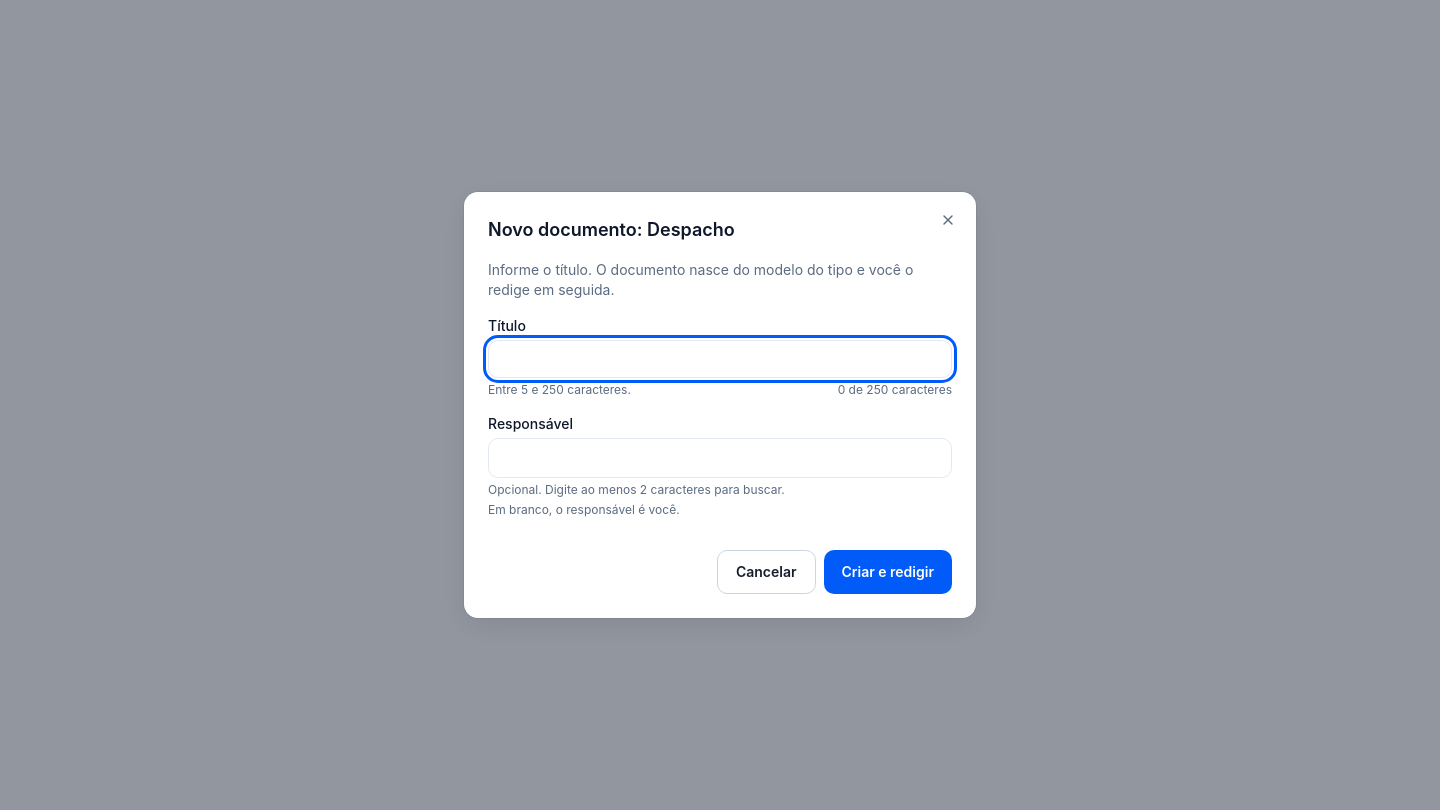
Test: US-063 — CreateDocumentDialog do livre › V-03: tipo sem modelo publicado → a mensagem da API no campo, sem navegar
Type "Encaminhamento à Secretaria de Obras" into the field labelled "Título" at (720, 359), box [488,340,952,378]
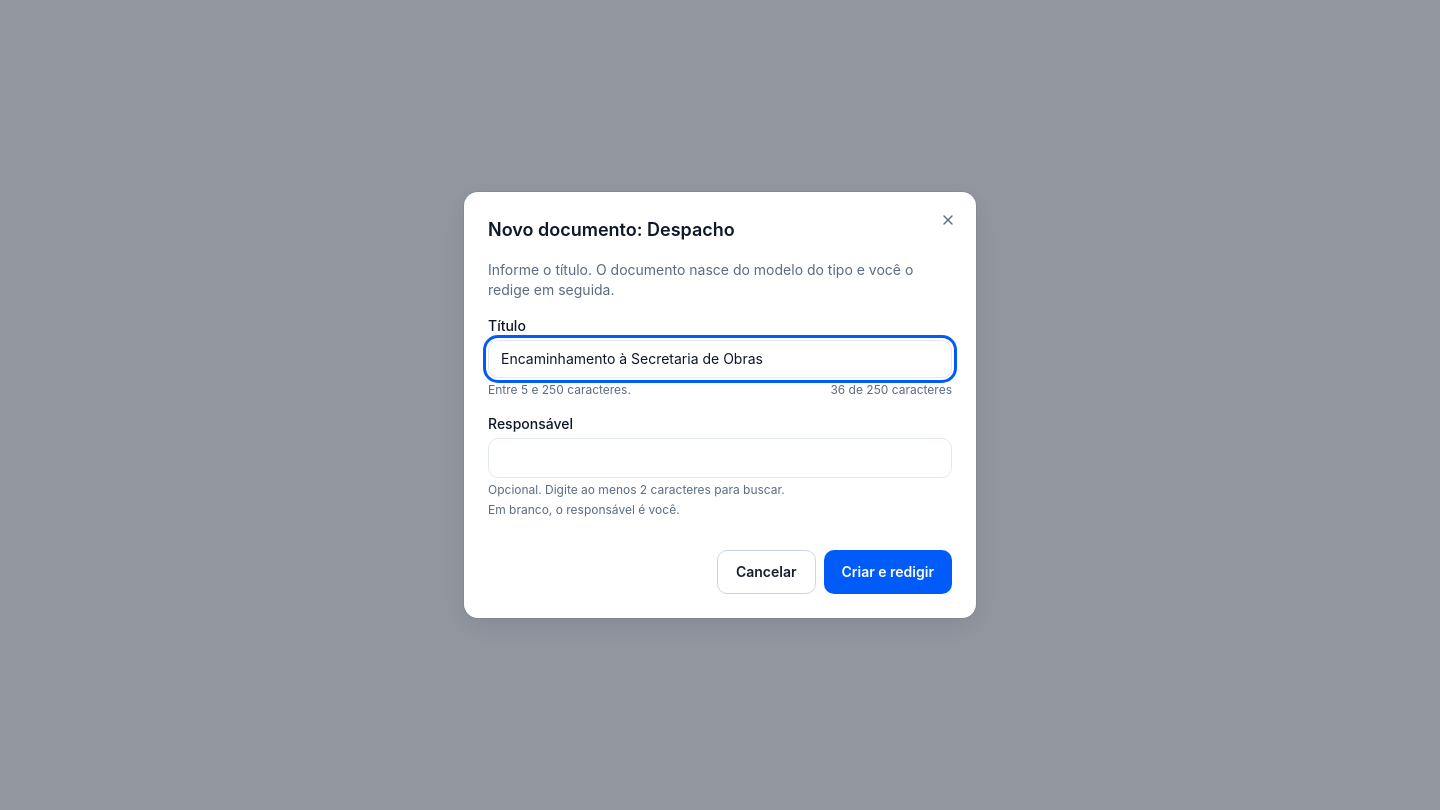
Click the button "Criar e redigir" at (888, 572), box [824,550,952,594]
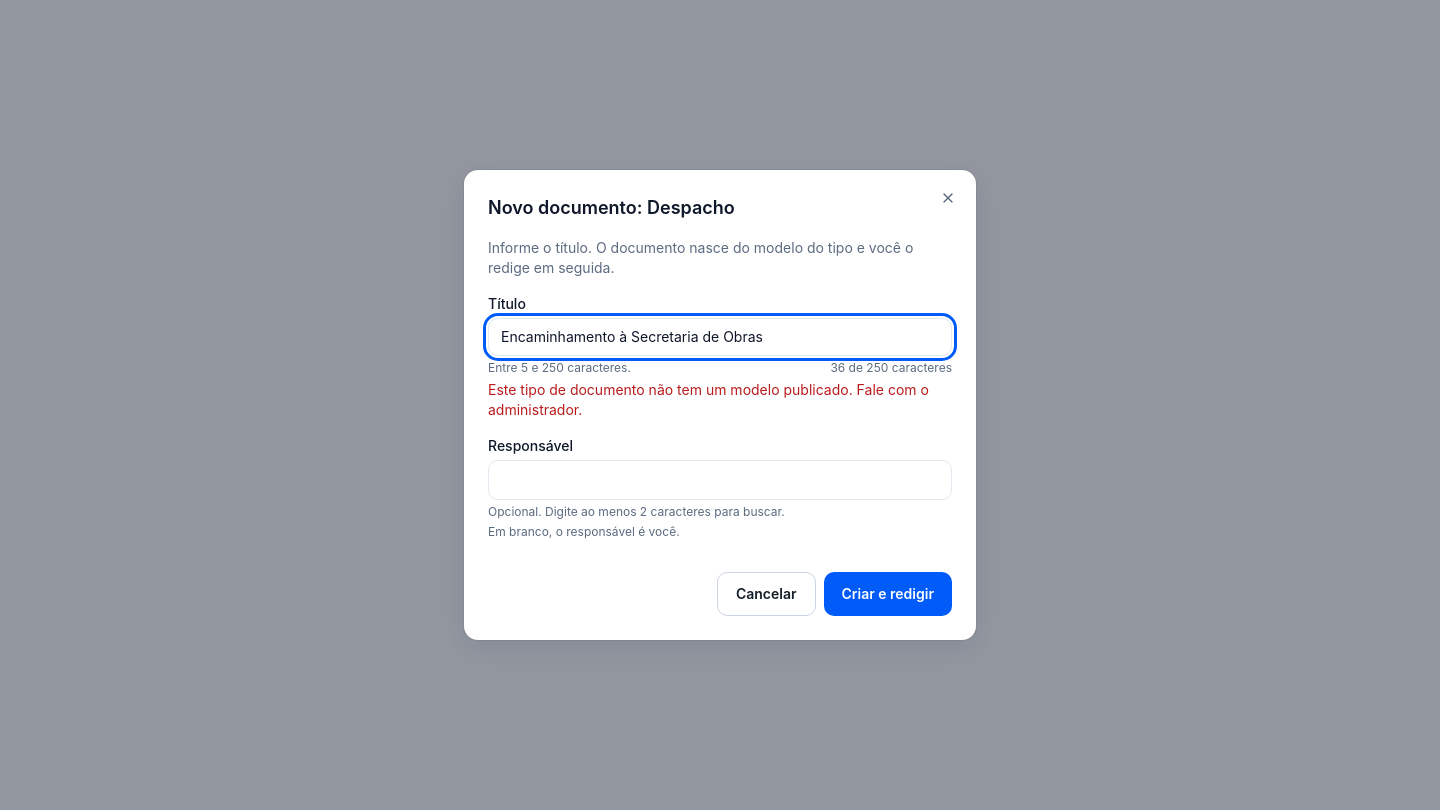
Now the text "Este tipo de documento não tem um modelo publicado. Fale com o administrador." is shown, box [488,380,952,420]
